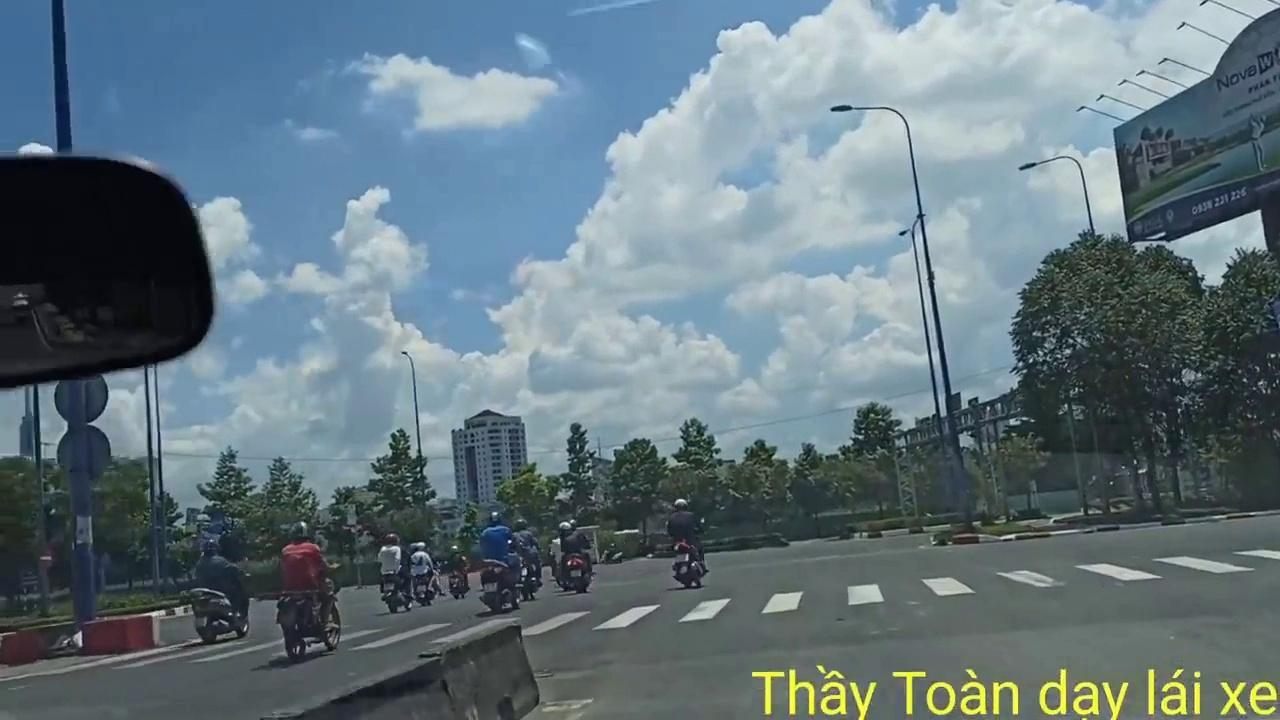Cấm đi ngược chiều: (37, 546, 54, 570)
